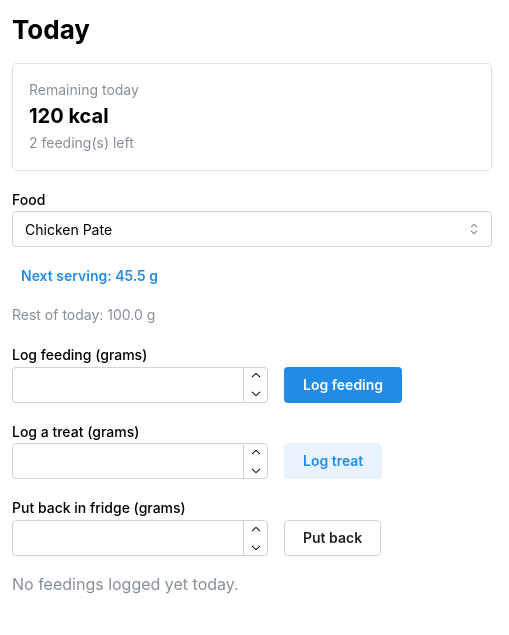
it: TodayScreen › fills the feeding grams input when the next serving is tapped
The width and height of the screenshot is (509, 635).
Check: the text "120 kcal" is shown, box [29,104,109,128]
Click the button "Next serving: 45.5 g" at (90, 276), box [12,264,167,290]
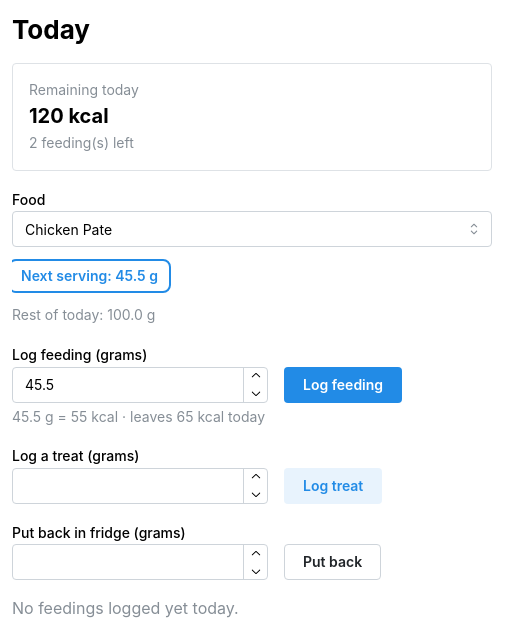
Check: the field labelled "Log feeding (grams)" holds "45.5", box [12,367,268,403]
